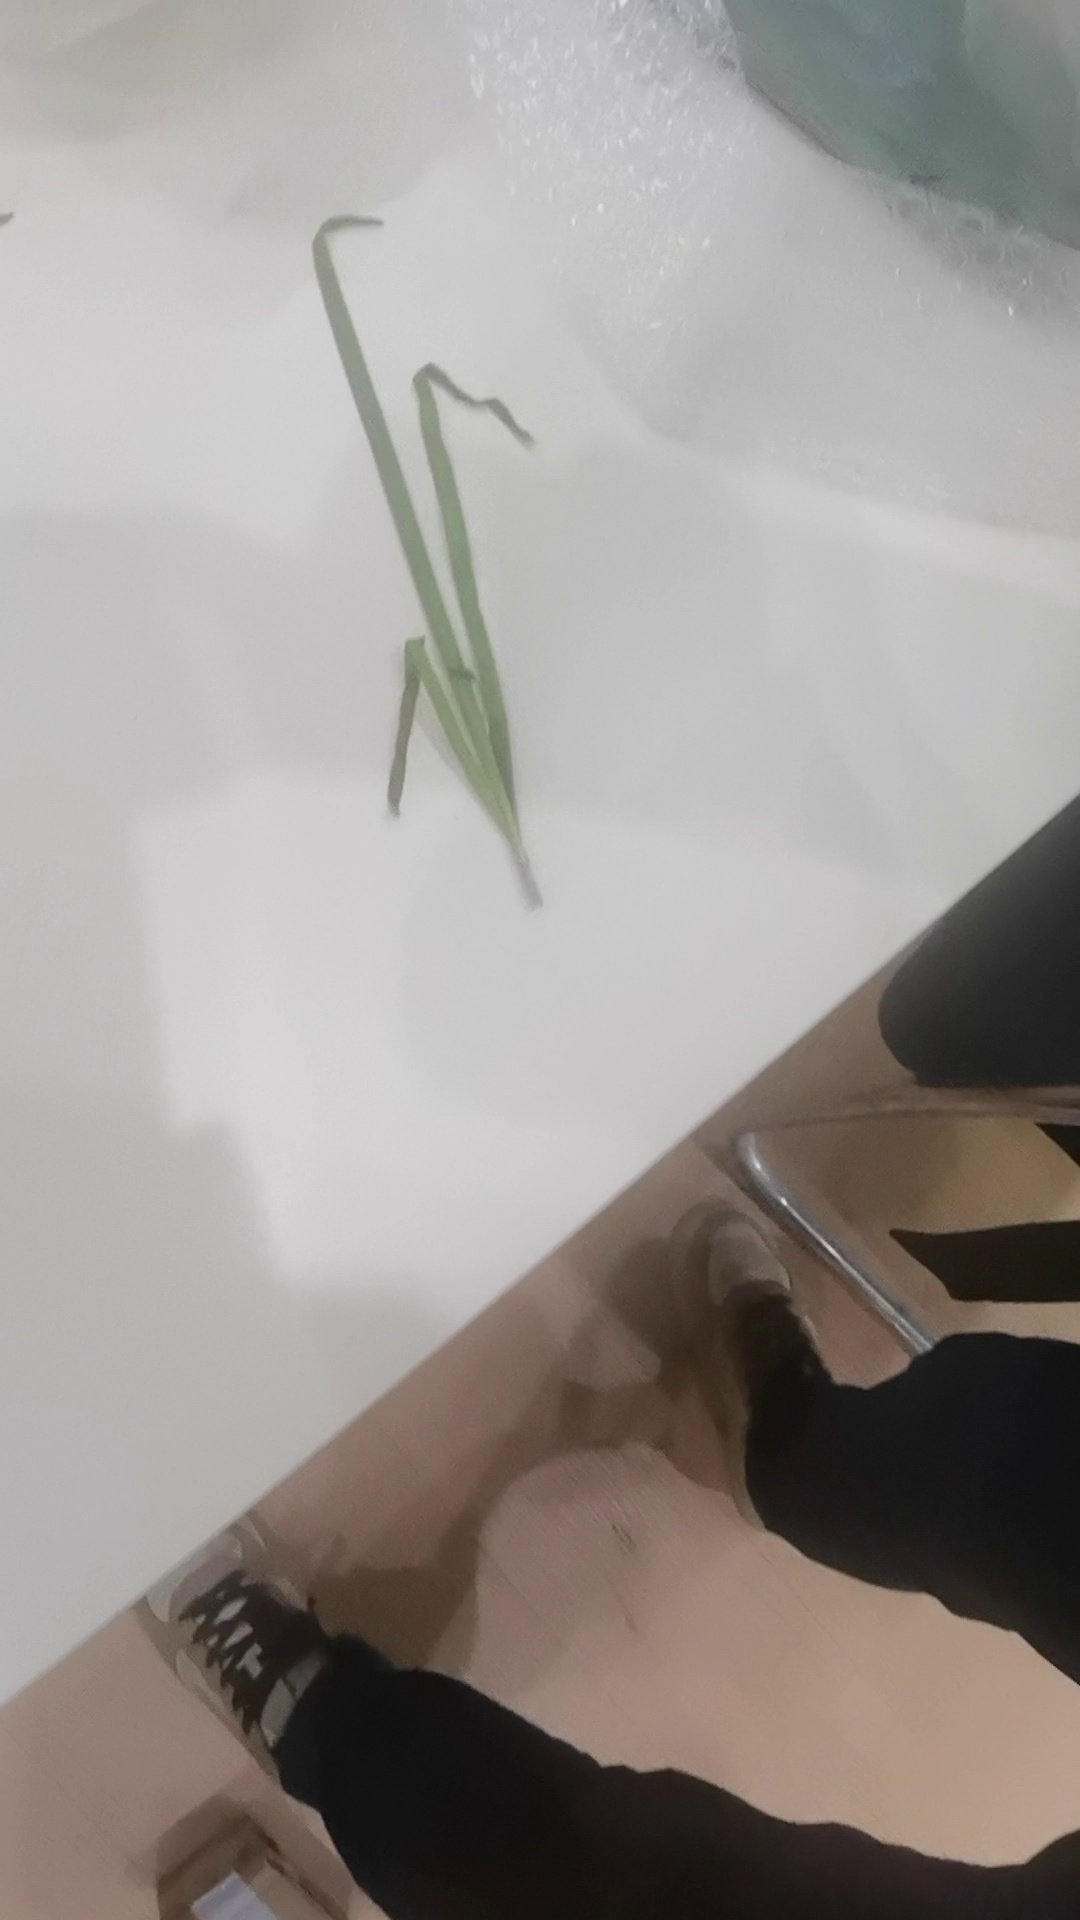chives: (272, 204, 592, 913)
